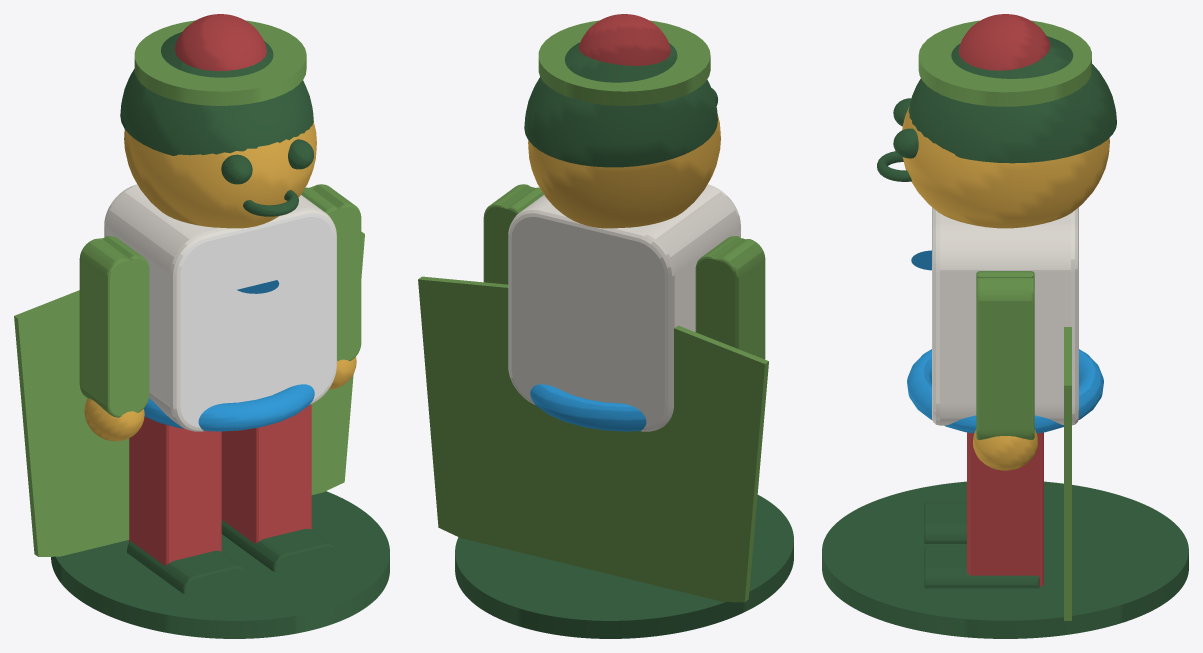
The model's file is 1131_左传_郑襄公.glb.
3 renders of one model, left to right at view 1: azimuth 30°, elevation 25°; view 2: azimuth 150°, elevation 25°; view 3: azimuth 270°, elevation 25°, orthographic.
Parts seen in each view (by area): view 1: card_1131; view 2: card_1131; view 3: card_1131.
Boxes of the visible parts, x1,y1,x2,y2 form: card_1131: [14, 14, 389, 638]; card_1131: [418, 14, 793, 638]; card_1131: [822, 14, 1188, 638].
Bounding box in the file's own units: 0.6524 × 1 × 0.592.
